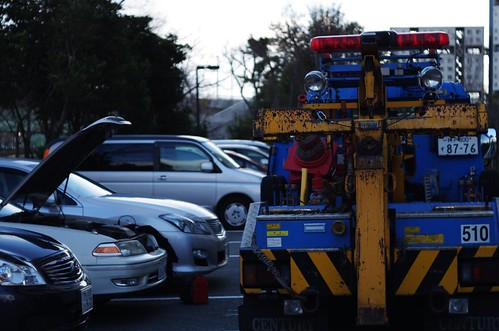car: (63, 135, 268, 222), (1, 218, 97, 331)
tree: (1, 1, 143, 131)
truck: (232, 35, 499, 318)
